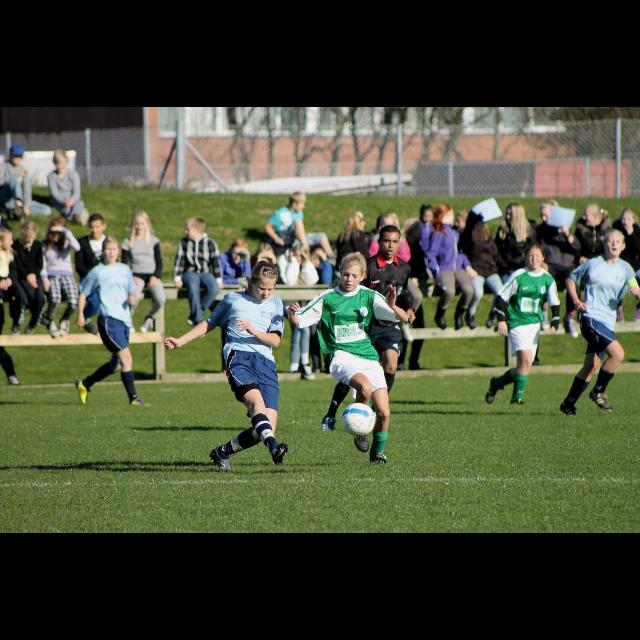Football: (338, 402, 376, 432)
